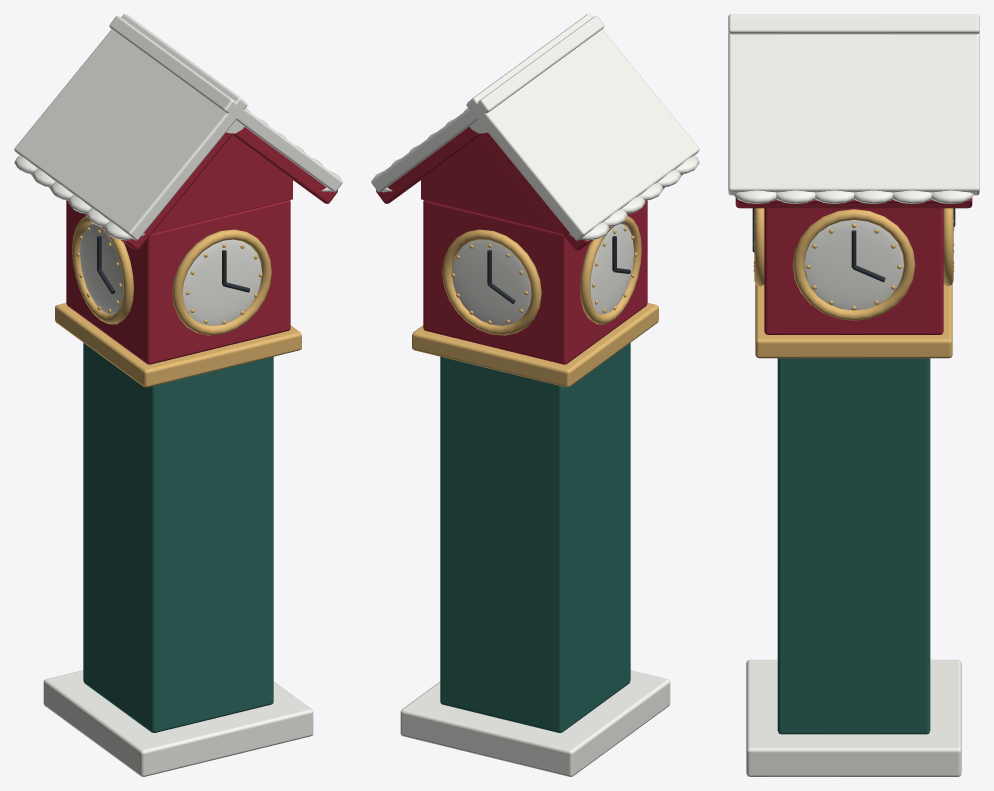
File: christmas-storybook-village-clock-tower-d0a3d15f__18690.glb
3 views of the same model, side by side, from view 1: azimuth 30°, elevation 25°; view 2: azimuth 150°, elevation 25°; view 3: azimuth 270°, elevation 25° (orthographic). The views are drawn at different scales.
Visible parts, largest first — view 1: pine, cream, berry, brass, ink; view 2: pine, cream, berry, brass, ink; view 3: cream, pine, berry, brass, ink.
Boxes of the visible parts, x1=… form: pine: x1=83, y1=343, x2=273, y2=732; cream: x1=14, y1=14, x2=342, y2=776; berry: x1=30, y1=127, x2=337, y2=364; brass: x1=55, y1=216, x2=301, y2=387; ink: x1=97, y1=236, x2=250, y2=293; pine: x1=440, y1=343, x2=630, y2=732; cream: x1=371, y1=14, x2=699, y2=776; berry: x1=376, y1=127, x2=683, y2=364; brass: x1=412, y1=216, x2=658, y2=387; ink: x1=487, y1=236, x2=630, y2=303; cream: x1=728, y1=14, x2=979, y2=776; pine: x1=777, y1=358, x2=930, y2=734; berry: x1=735, y1=197, x2=972, y2=334; brass: x1=753, y1=208, x2=954, y2=358; ink: x1=752, y1=208, x2=955, y2=282.
Size of the model in its own units: 1.61 by 4.41 by 1.4.
